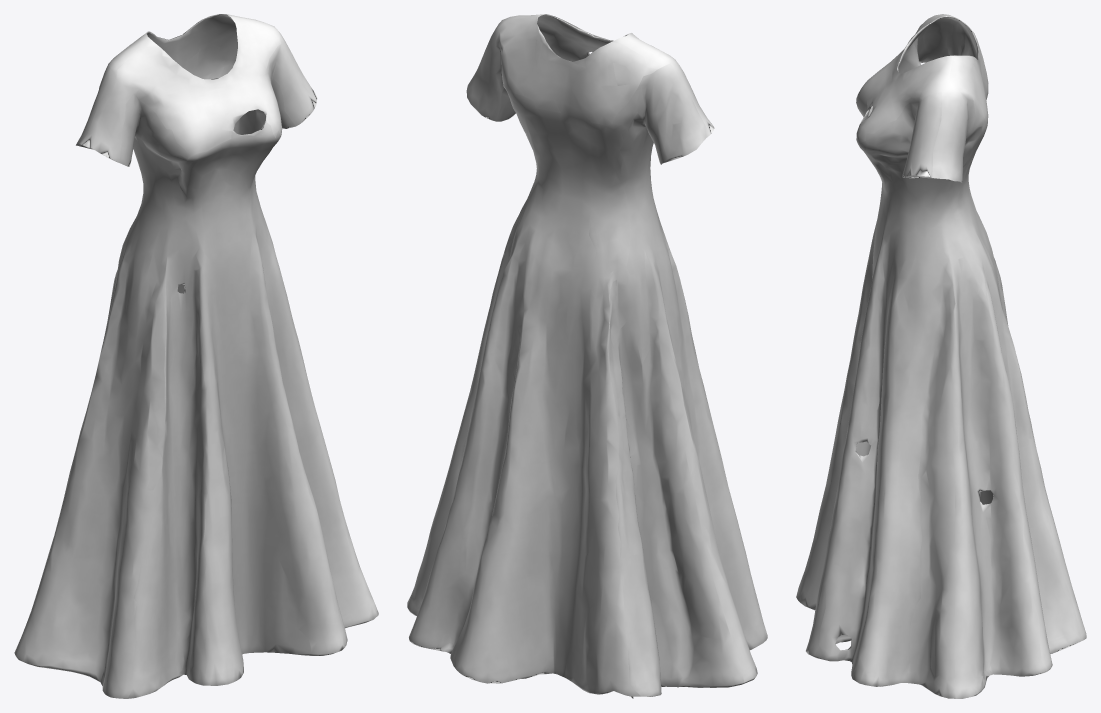
File: gown_clean.glb
3 renders of one model, left to right at view 1: azimuth 30°, elevation 25°; view 2: azimuth 150°, elevation 25°; view 3: azimuth 270°, elevation 25°, orthographic. The views are drawn at different scales.
Parts seen in each view (by area): view 1: Gown; view 2: Gown; view 3: Gown.
Part boxes in pixels (x1,y1,x2,y2): Gown: (14, 14, 378, 698); Gown: (407, 14, 767, 698); Gown: (796, 14, 1086, 698).
Size of the model in its own units: 0.5744 by 0.9979 by 0.4423.
Materials: 1 (1 with a texture image).
